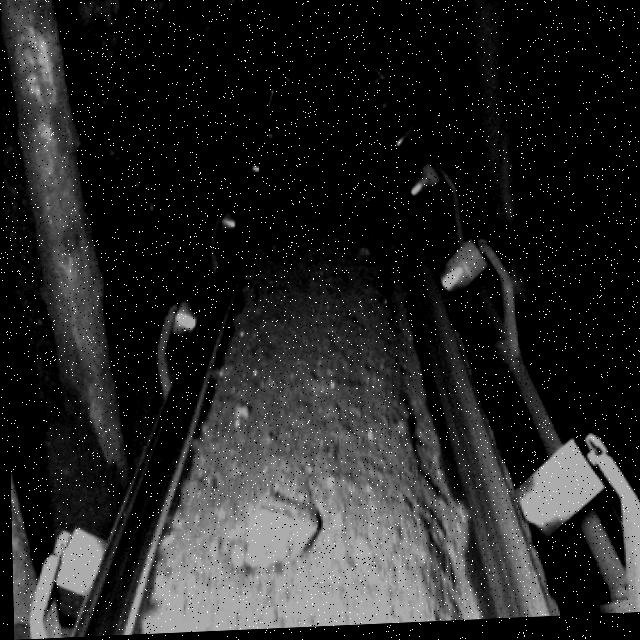large_sized_coal: (241, 492, 319, 574)
